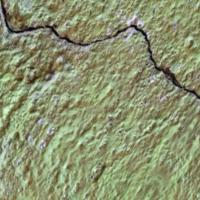crack: (1, 0, 199, 109)
